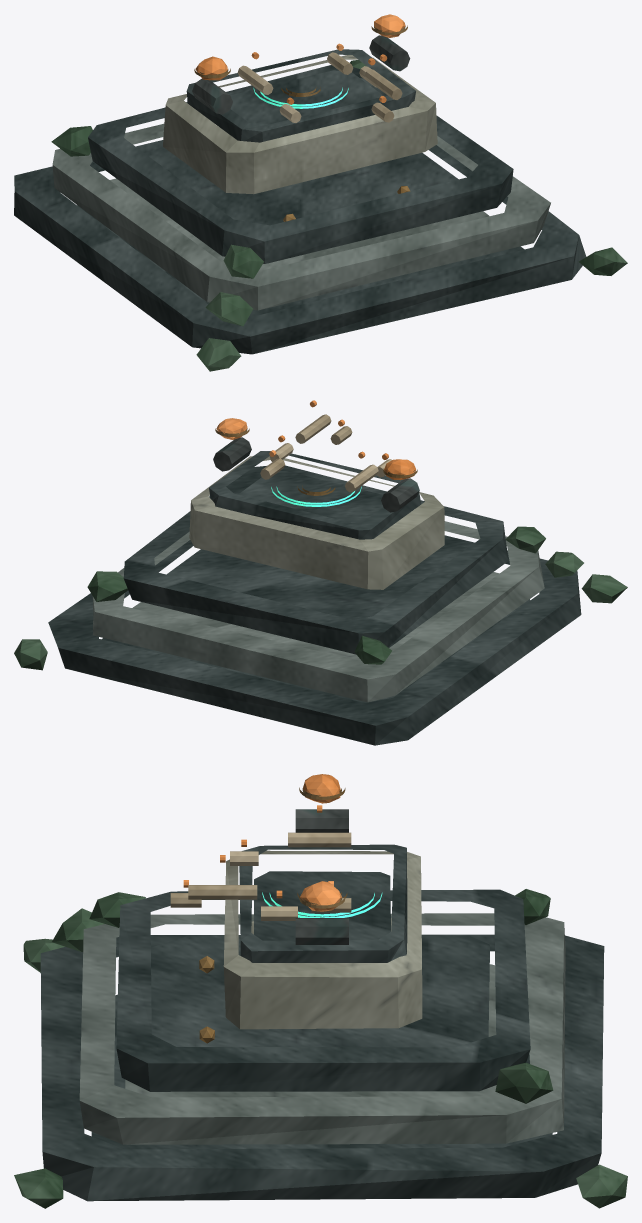
The model's file is 0456_altar_06.glb.
3 renders of one model, top to bottom at view 1: azimuth 30°, elevation 25°; view 2: azimuth 150°, elevation 25°; view 3: azimuth 270°, elevation 25°, orthographic. The views are drawn at different scales.
Visible parts, largest first — view 1: stone_dark, stone, stone_light, moss, bone, iron, amber, brass; view 2: stone_dark, stone, stone_light, moss, bone, iron, amber; view 3: stone_dark, stone, stone_light, moss, bone, iron, amber, brass.
Boxes of the visible parts, x1,y1,x2,y2 form: stone_dark: [14, 49, 586, 354]; stone: [52, 123, 550, 310]; stone_light: [163, 55, 437, 194]; moss: [51, 60, 627, 371]; bone: [237, 52, 402, 122]; iron: [192, 35, 410, 114]; amber: [195, 14, 405, 104]; brass: [194, 25, 410, 221]; stone_dark: [48, 451, 581, 745]; stone: [92, 521, 544, 702]; stone_light: [189, 456, 444, 589]; moss: [14, 526, 627, 670]; bone: [260, 414, 391, 492]; iron: [213, 437, 419, 512]; amber: [216, 400, 415, 480]; stone_dark: [40, 844, 604, 1201]; stone: [79, 913, 565, 1144]; stone_light: [223, 850, 422, 1029]; moss: [14, 889, 627, 1208]; bone: [170, 832, 351, 920]; iron: [295, 809, 348, 944]; amber: [183, 774, 342, 911]; brass: [199, 787, 347, 1043].
Bounding box in the file's own units: 2.75 × 1.3 × 2.77.
9 materials, 9 textured.
